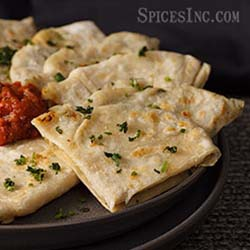aloo_paratha: (1, 15, 245, 221)
